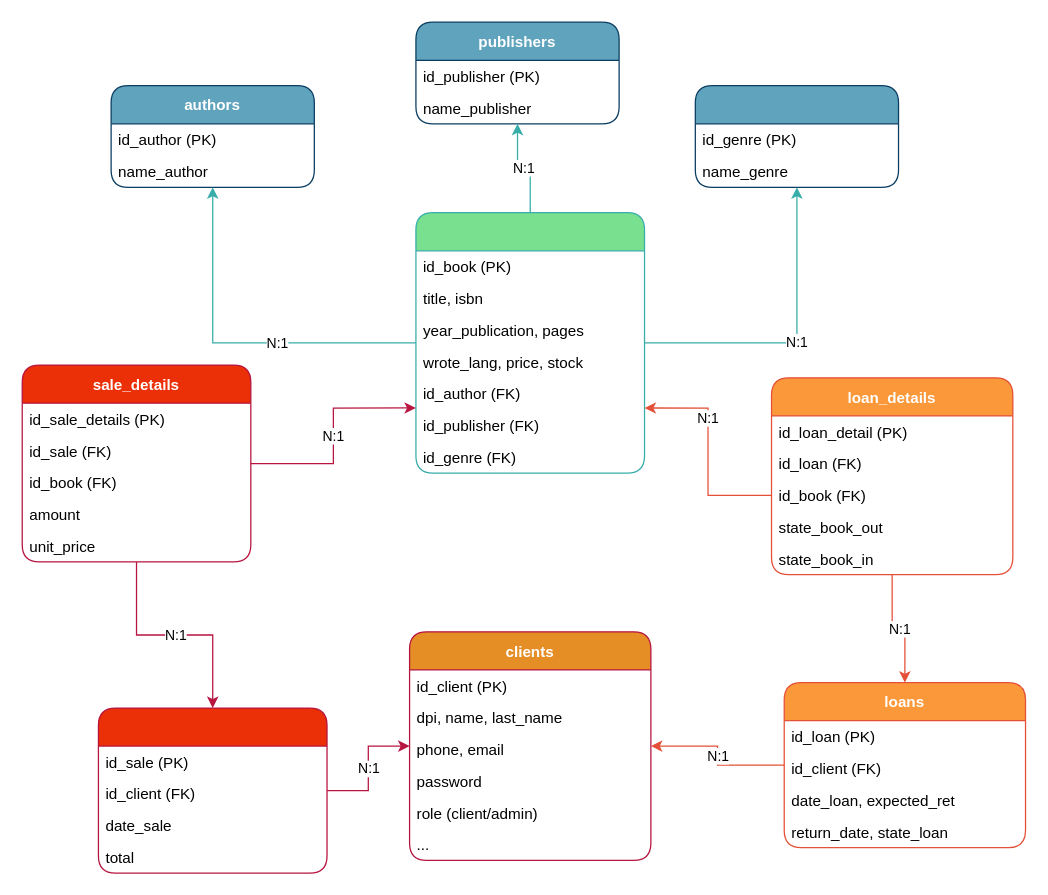
The diagram is 1048 pixels wide and 895 high, and some of its shapes have lost their labels. Each missing label, with the box of its shape:
books: (415, 211, 645, 473)
genres: (694, 84, 899, 187)
sales: (97, 707, 327, 873)
